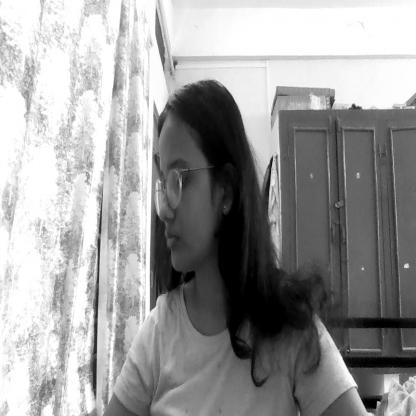Distracted: (152, 83, 248, 266)
